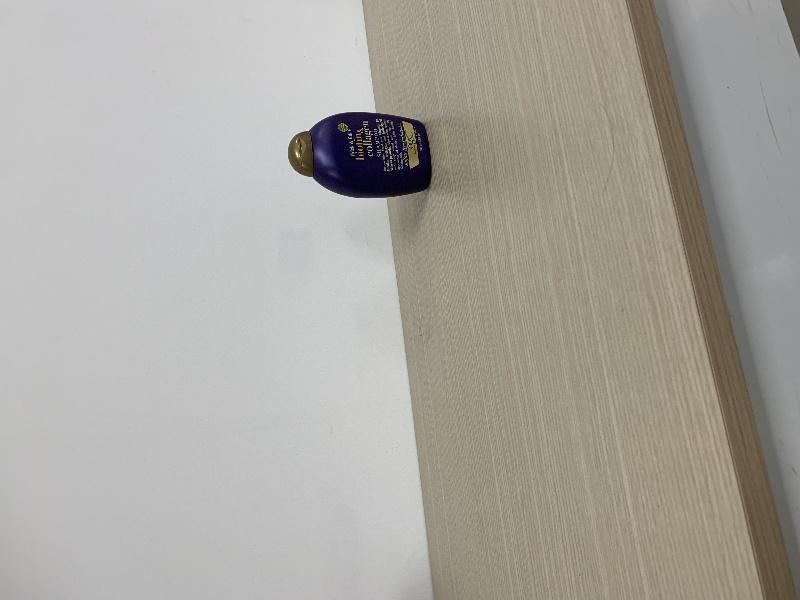BiotinCollagen_Shampoo: (287, 113, 432, 198)
